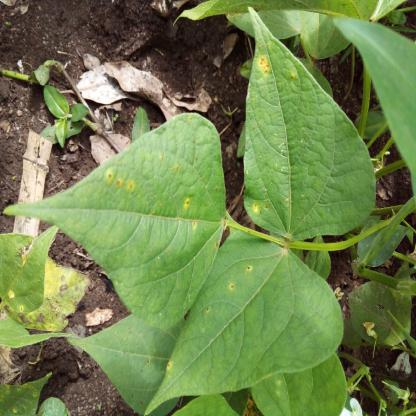Beans_Rust: (0, 114, 225, 320), (140, 245, 345, 416), (244, 10, 374, 232), (0, 229, 87, 333)
